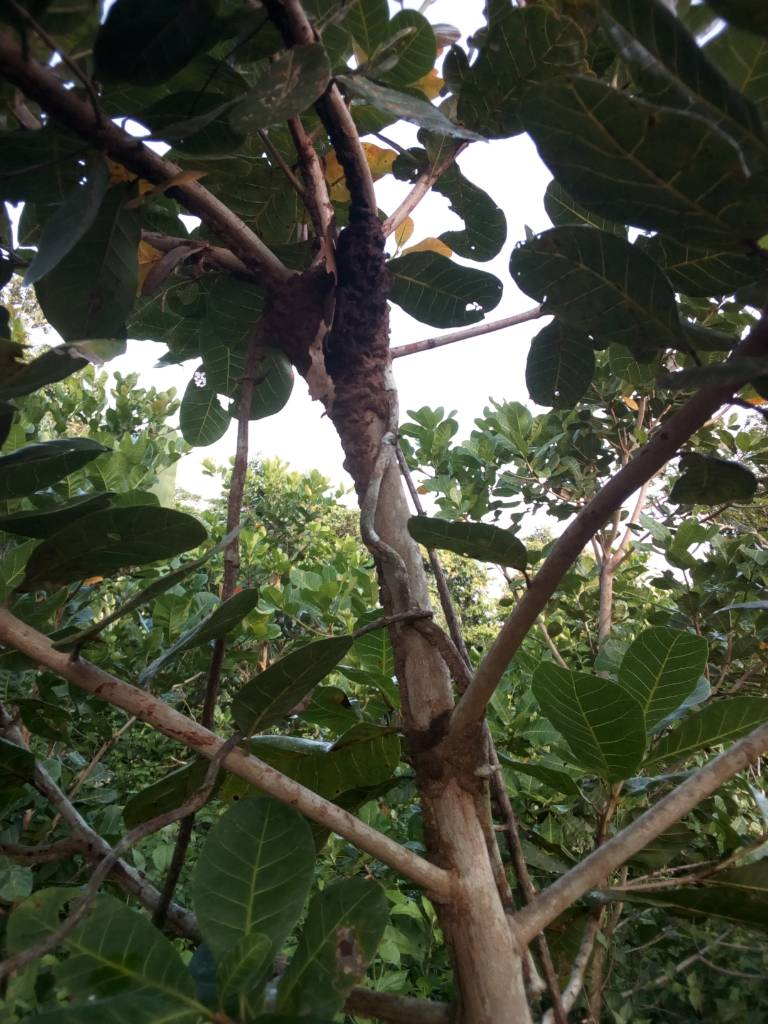Termites: (332, 189, 396, 472), (390, 577, 463, 732), (429, 719, 496, 800)
